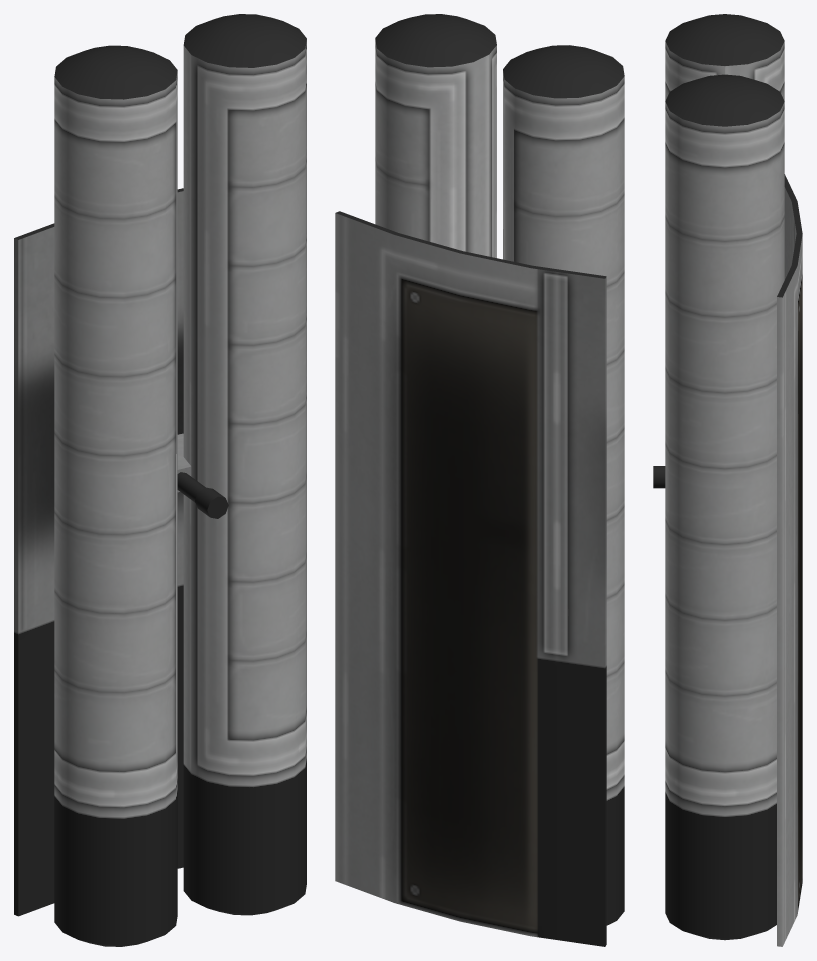
File: aquila_radiator_fuel_tank_double_srf_2.obj
3 views of the same model, side by side, from view 1: azimuth 30°, elevation 25°; view 2: azimuth 150°, elevation 25°; view 3: azimuth 270°, elevation 25° (orthographic). The views are drawn at different scales.
Visible parts, largest first — view 1: aquila_radiator_tank_double_srf_2; view 2: aquila_radiator_tank_double_srf_2; view 3: aquila_radiator_tank_double_srf_2.
Part boxes in pixels (x1,y1,x2,y2): aquila_radiator_tank_double_srf_2: (14,14,306,946); aquila_radiator_tank_double_srf_2: (335,14,624,946); aquila_radiator_tank_double_srf_2: (653,14,802,946).
Bounding box in the file's own units: 0.6341 × 1.95 × 0.3125.
